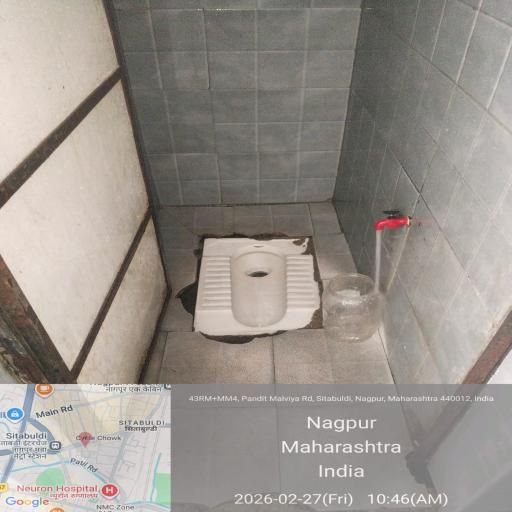clean_floor: (96, 0, 512, 227)
partial_dirty_indian: (190, 233, 321, 333)
